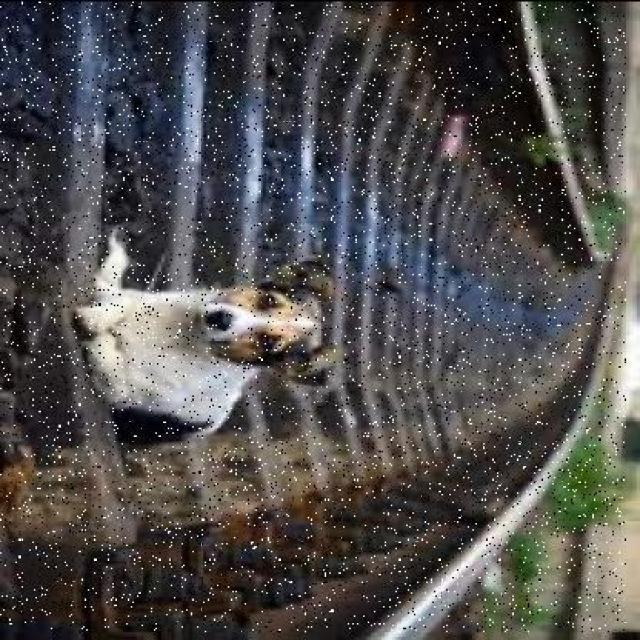danger: (76, 246, 338, 457)
rail: (0, 0, 626, 631)
